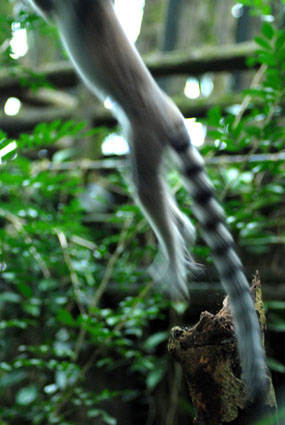cat: (21, 0, 267, 399)
